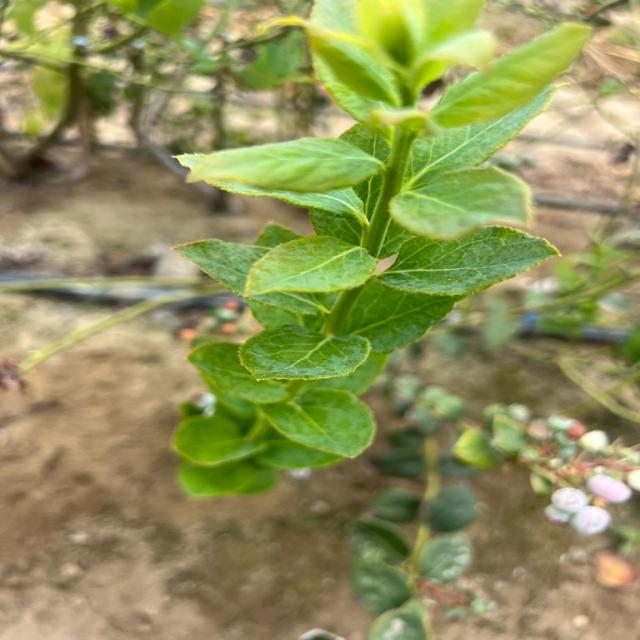Hojas sanas sin oidiosis: (378, 226, 561, 298), (246, 390, 376, 462), (240, 233, 377, 299), (237, 325, 373, 383)
